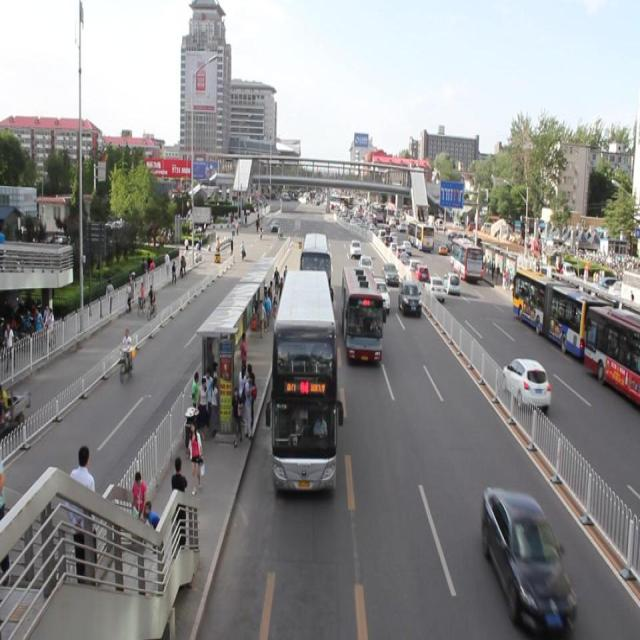car: (474, 479, 582, 634), (395, 278, 423, 319), (369, 274, 391, 313), (378, 258, 402, 285), (345, 234, 364, 260), (355, 254, 376, 276)
van: (263, 267, 344, 501), (336, 264, 389, 368), (295, 228, 335, 311)
